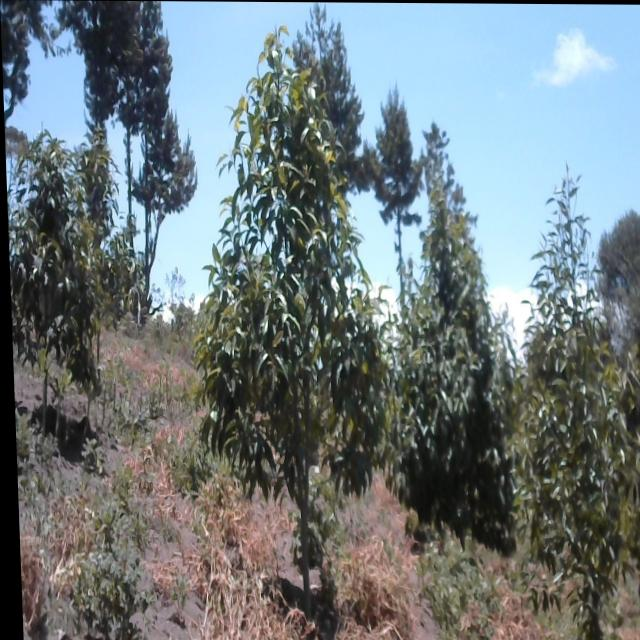Hass Avocado: (188, 24, 391, 609), (501, 161, 640, 630), (379, 149, 506, 531), (4, 133, 98, 428)
Salix alba: (592, 206, 640, 414)
cedrus: (123, 1, 194, 295), (287, 6, 361, 202), (365, 83, 429, 290)
